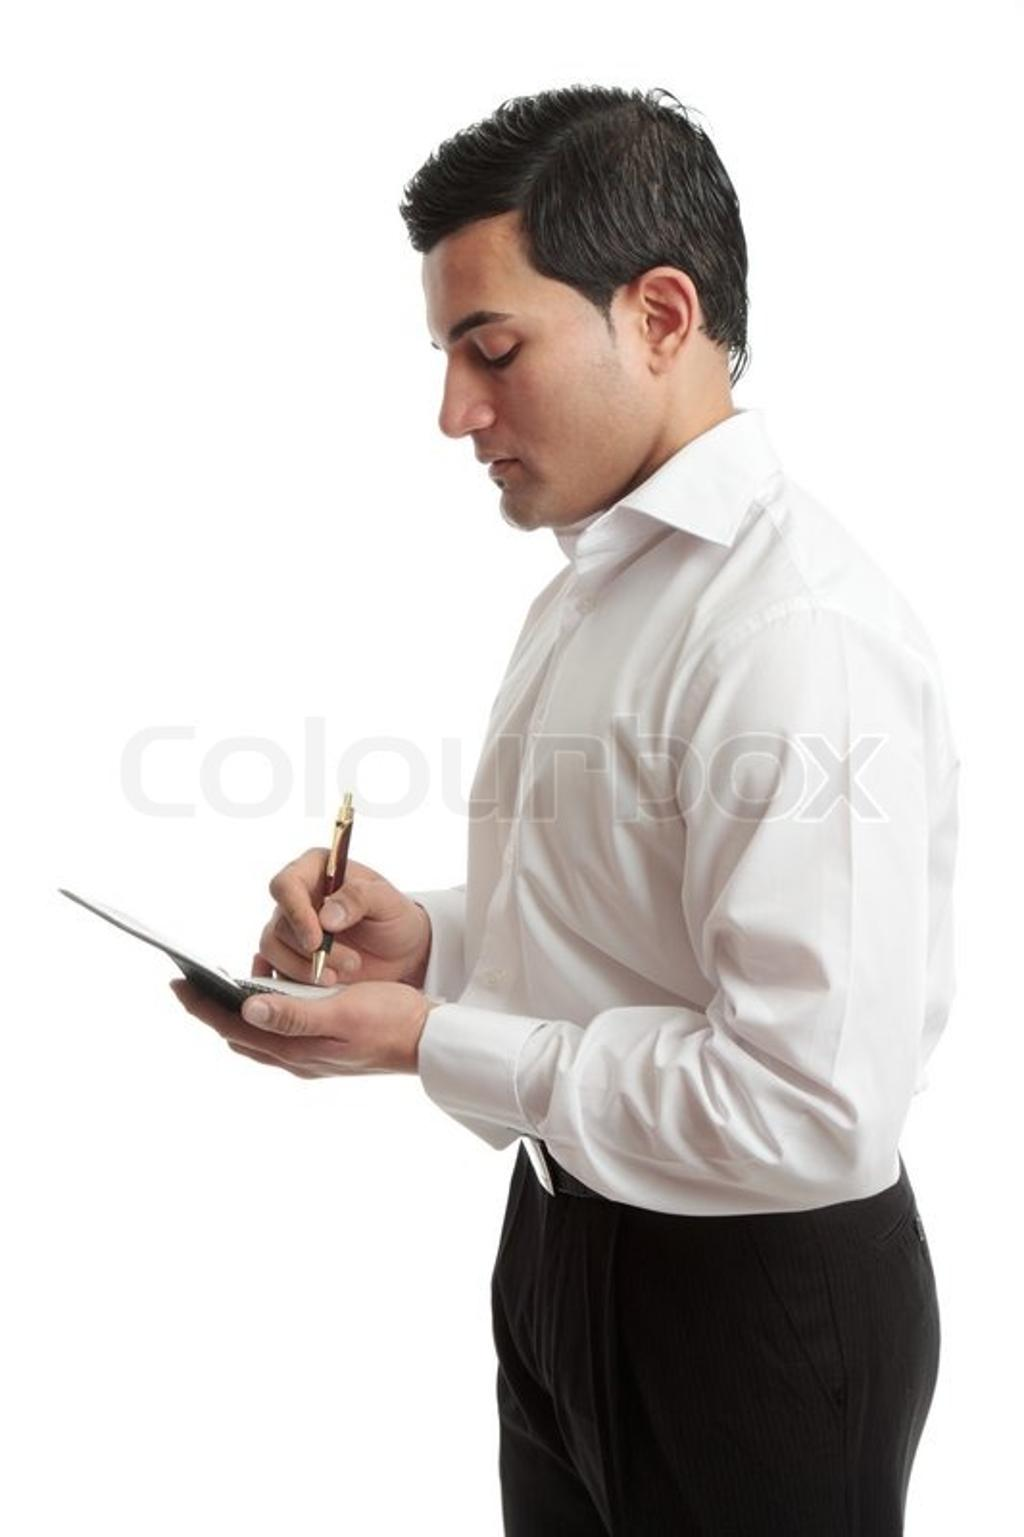face: (435, 216, 630, 531)
